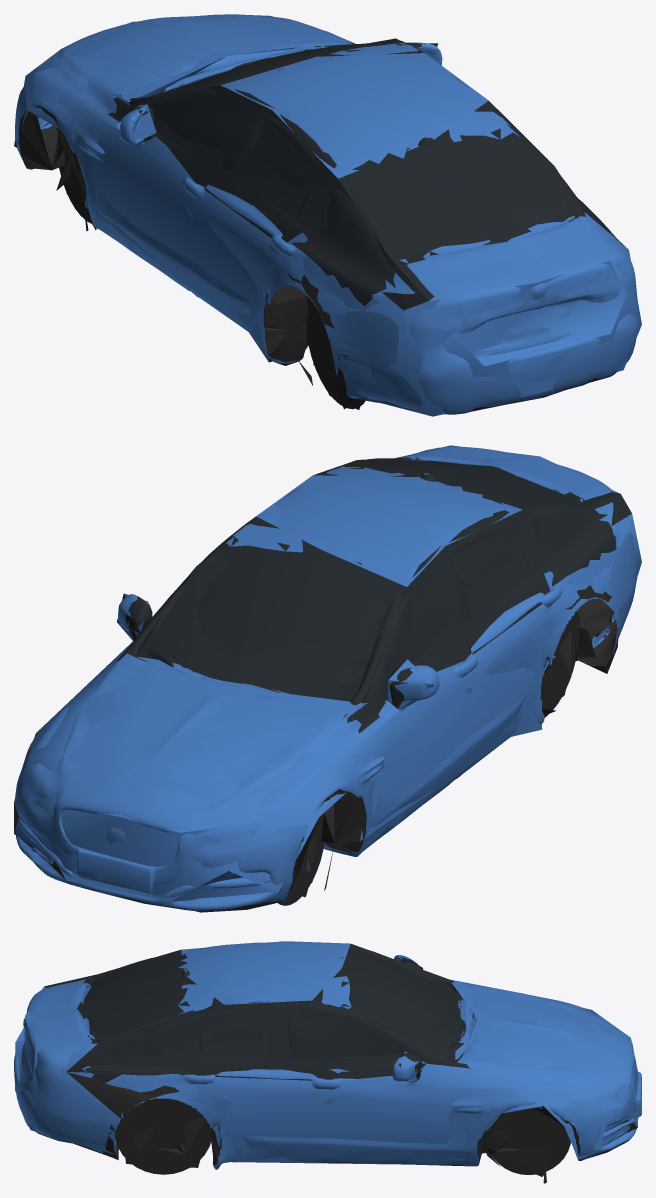
Rendered from jaguar-xe.glb.
The picture shows the model from 3 angles, top to bottom: view 1: azimuth 30°, elevation 25°; view 2: azimuth 150°, elevation 25°; view 3: azimuth 270°, elevation 25°; orthographic projection. The views are drawn at different scales.
Visible parts, largest first — view 1: body, far; view 2: body, far; view 3: body, far.
Boxes of the visible parts, x1=… form: body: x1=15, y1=14, x2=637, y2=414; far: x1=14, y1=15, x2=641, y2=416; body: x1=15, y1=446, x2=637, y2=912; far: x1=14, y1=445, x2=641, y2=901; body: x1=14, y1=942, x2=641, y2=1183; far: x1=15, y1=941, x2=639, y2=1176.
Size of the model in its own units: 2.02 by 1.46 by 4.77.
